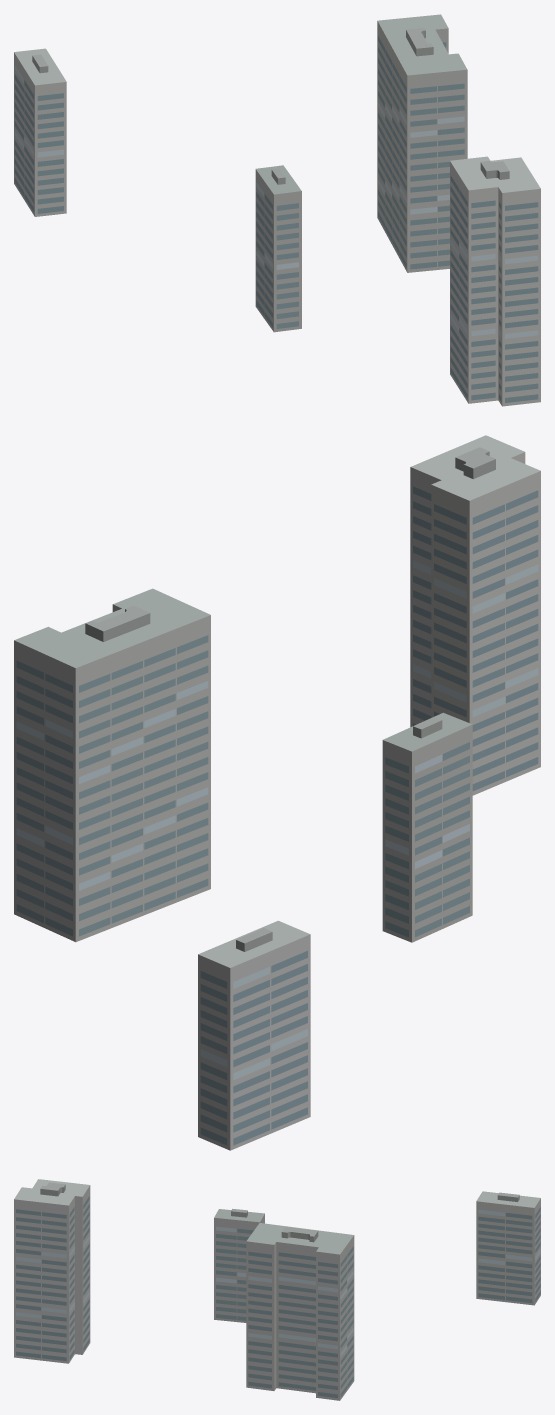
File: apt-a13470104.glb
3 renders of one model, top to bottom at view 1: azimuth 30°, elevation 25°; view 2: azimuth 150°, elevation 25°; view 3: azimuth 270°, elevation 25°, orthographic. The views are drawn at different scales.
Visible parts, largest first — view 1: apt-a13470104; view 2: apt-a13470104; view 3: apt-a13470104.
Part boxes in pixels (x1,y1,x2,y2): apt-a13470104: (14, 14, 540, 406); apt-a13470104: (14, 435, 540, 1150); apt-a13470104: (14, 1179, 540, 1400).
Bounding box in the file's own units: 101 × 69 × 201.
